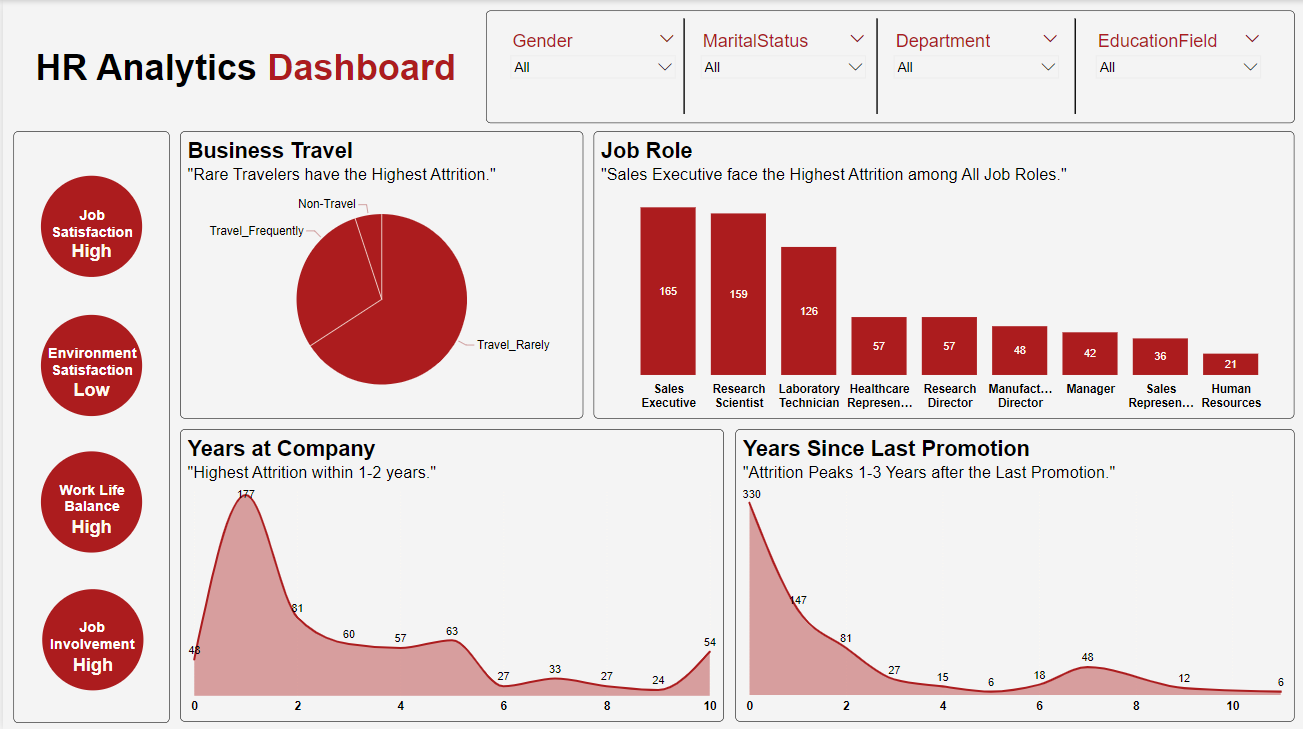

What the dashboard file says about the page in this screenshot:
{"tool":"powerbi","page":{"name":"Main Dashboard 2","canvas":[1920,1080],"ordinal":1},"visuals":[{"type":"pieChart","fields":{"Y":["MeasureTable.Attrition Count"],"Category":["Attrition Fact Table.Job Satisfaction Sorting"]},"box":[0,210.9,261.2,245.8],"z":0},{"type":"shape","box":[712.1,15.5,1192.1,166.4],"z":1000},{"type":"shape","box":[15.5,193.5,230.3,872.8],"z":2000},{"type":"pieChart","fields":{"Y":["MeasureTable.Attrition Count"],"Category":["Attrition Fact Table.Enviornment Satisfaction Sorting"]},"box":[0,416.1,261.2,245.8],"z":3000},{"type":"pieChart","fields":{"Y":["MeasureTable.Attrition Count"],"Category":["Attrition Fact Table.WorkLifeBalance Sorting"]},"box":[0,617.3,261.2,245.8],"z":4000},{"type":"pieChart","fields":{"Y":["MeasureTable.Attrition Count"],"Category":["Attrition Fact Table.JobInvolvement Sorting"]},"box":[1.9,820.5,261.2,245.8],"z":5000},{"type":"textbox","box":[27.1,69.7,661.8,98.7],"z":6000},{"type":"pieChart","title":"Business Travel","fields":{"Y":["MeasureTable.Attrition Count"],"Category":["Emp Travel Details.BusinessTravel"]},"box":[261.2,193.5,594.1,423.8],"z":7000},{"type":"slicer","fields":{"Values":["Emp Details.Gender"]},"box":[743.1,44.5,253.5,118],"z":8000},{"type":"slicer","fields":{"Values":["Emp Details.MaritalStatus"]},"box":[1023.7,44.5,253.5,108.4],"z":9000},{"type":"slicer","fields":{"Values":["Emp Job Details.Department"]},"box":[1308.2,44.5,253.5,108.4],"z":10000},{"type":"slicer","fields":{"Values":["Emp Education Details.EducationField"]},"box":[1606.2,44.5,253.5,108.4],"z":11000},{"type":"shape","box":[985,17.4,38.7,160.6],"z":12000},{"type":"shape","box":[1269.5,17.4,38.7,160.6],"z":13000},{"type":"shape","box":[1561.7,17.4,38.7,160.6],"z":14000},{"type":"textbox","box":[50.3,305.8,162.6,60],"z":15000},{"type":"textbox","box":[50.3,508.9,162.6,60],"z":16000},{"type":"textbox","box":[50.3,710.2,162.6,60],"z":17000},{"type":"textbox","box":[50.3,913.4,162.6,60],"z":18000},{"type":"columnChart","title":"Job Role","fields":{"Category":["Emp Job Details.JobRole"],"Y":["MeasureTable.Attrition Count"]},"box":[870.8,193.5,1033.4,423.8],"z":19000},{"type":"areaChart","title":"Years at Company","fields":{"Category":["Attrition Fact Table.YearsAtCompany"],"Y":["MeasureTable.Attrition Count"]},"box":[261.2,632.8,801.2,431.5],"z":20000},{"type":"areaChart","title":"Years Since Last Promotion","fields":{"Y":["MeasureTable.Attrition Count"],"Category":["Attrition Fact Table.YearsSinceLastPromotion"]},"box":[1079.8,632.8,824.4,431.5],"z":21000}]}

Visuals, with their boxes in screenshot pixels (x1, y1, x2, y2), scaled from the page's 1920x1080 canvas onto the 1303x729 screenshot:
pieChart - MeasureTable.Attrition Count x Attrition Fact Table.Job Satisfaction Sorting: (0,142,177,308)
shape: (483,10,1292,123)
shape: (11,131,167,720)
pieChart - MeasureTable.Attrition Count x Attrition Fact Table.Enviornment Satisfaction Sorting: (0,281,177,447)
pieChart - MeasureTable.Attrition Count x Attrition Fact Table.WorkLifeBalance Sorting: (0,417,177,583)
pieChart - MeasureTable.Attrition Count x Attrition Fact Table.JobInvolvement Sorting: (1,554,179,720)
textbox: (18,47,468,114)
"Business Travel" pieChart: (177,131,580,417)
slicer - Emp Details.Gender: (504,30,676,110)
slicer - Emp Details.MaritalStatus: (695,30,867,103)
slicer - Emp Job Details.Department: (888,30,1060,103)
slicer - Emp Education Details.EducationField: (1090,30,1262,103)
shape: (668,12,695,120)
shape: (862,12,888,120)
shape: (1060,12,1086,120)
textbox: (34,206,144,247)
textbox: (34,344,144,384)
textbox: (34,479,144,520)
textbox: (34,617,144,657)
"Job Role" columnChart: (591,131,1292,417)
"Years at Company" areaChart: (177,427,721,718)
"Years Since Last Promotion" areaChart: (733,427,1292,718)
